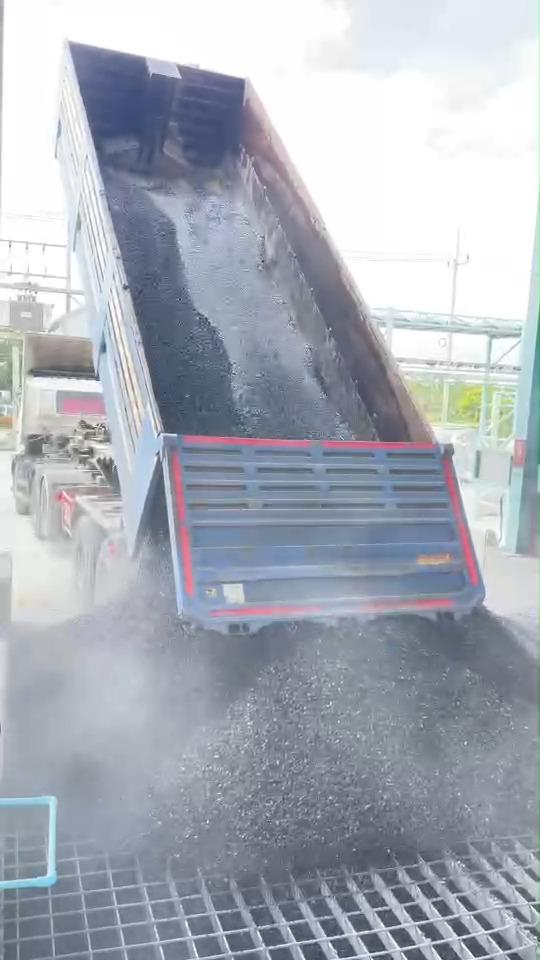gravel: (5, 485, 536, 872), (107, 174, 342, 436)
